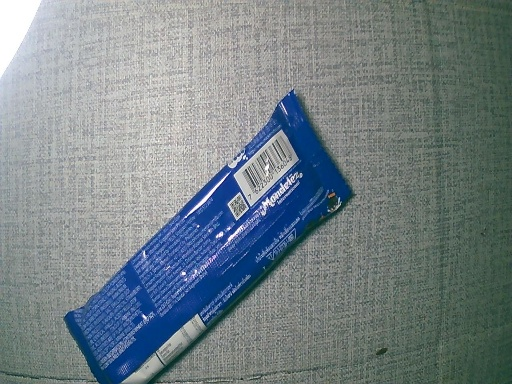plastic: (61, 94, 348, 384)
